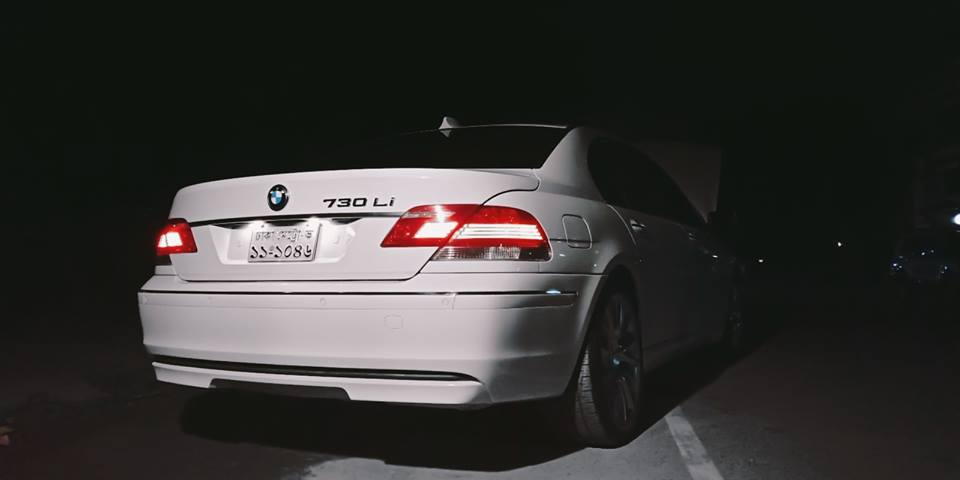registration_plate: (247, 221, 321, 262)
